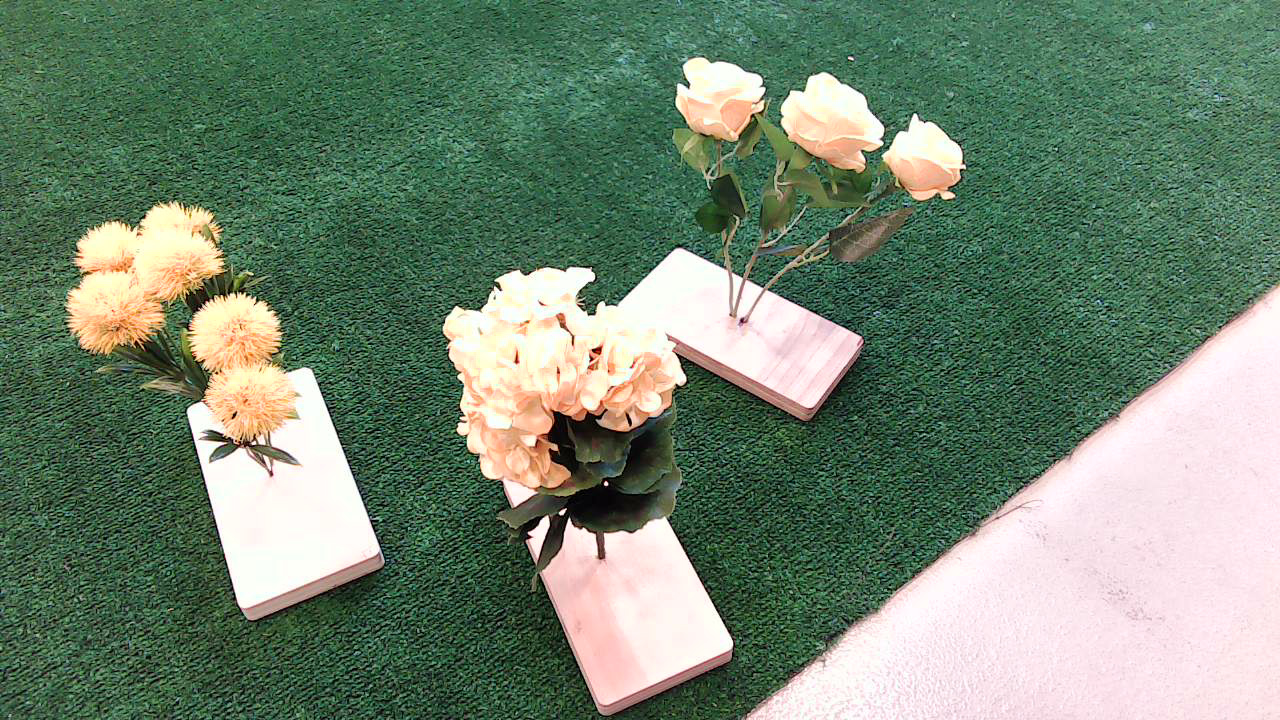dandelion: (41, 192, 340, 506)
geranium: (430, 263, 699, 588)
rose: (665, 47, 987, 278)
